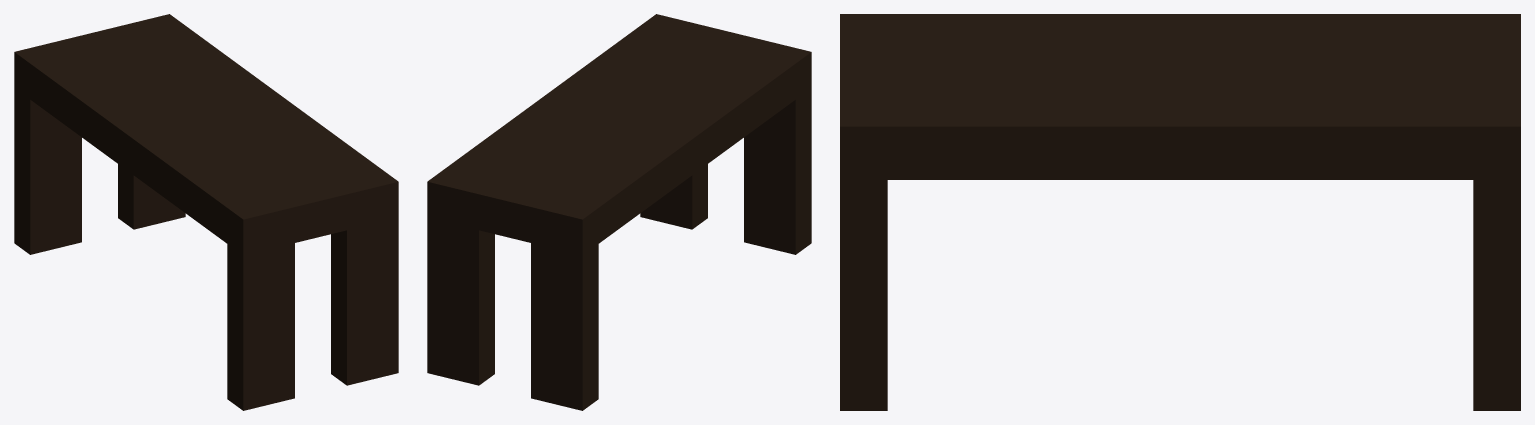
The model's file is tableTestTwo.glb.
3 renders of one model, left to right at view 1: azimuth 30°, elevation 25°; view 2: azimuth 150°, elevation 25°; view 3: azimuth 270°, elevation 25°, orthographic. The views are drawn at different scales.
Parts seen in each view (by area): view 1: Cube; view 2: Cube; view 3: Cube.
Boxes of the visible parts, x1,y1,x2,y2 form: Cube: (14, 14, 398, 410); Cube: (427, 14, 811, 410); Cube: (840, 14, 1520, 410).
Bounding box in the file's own units: 1.12 × 1.32 × 2.86.
1 material, 1 textured.
